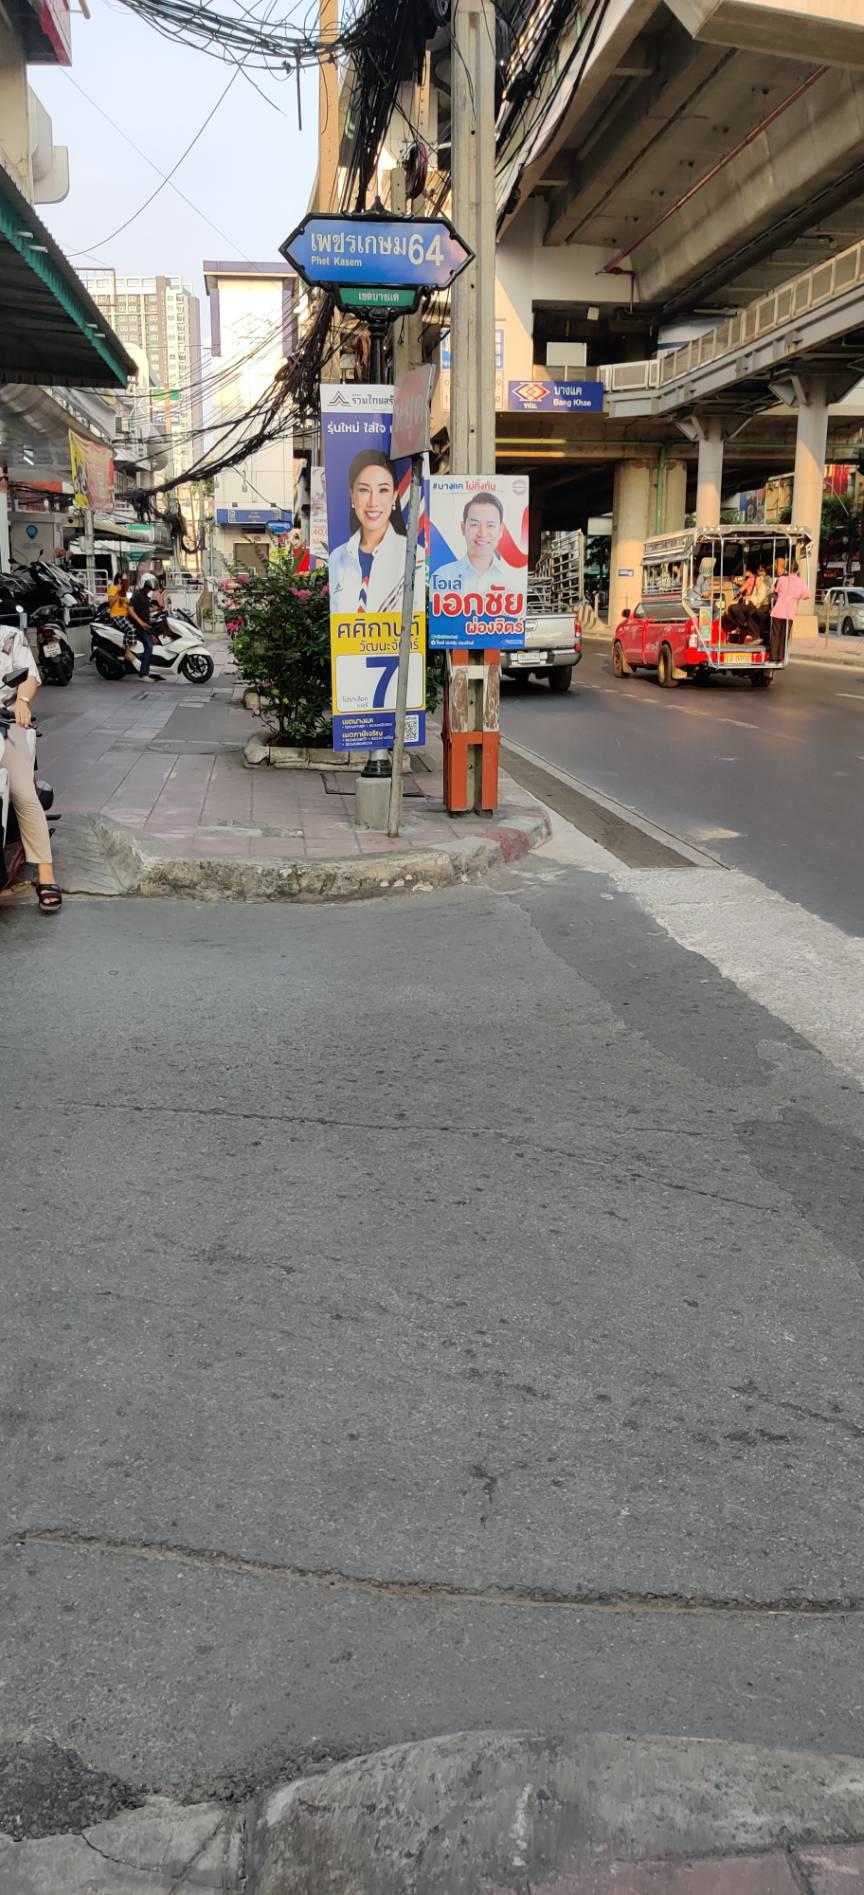Banner: (313, 388, 435, 753), (437, 473, 551, 651)
